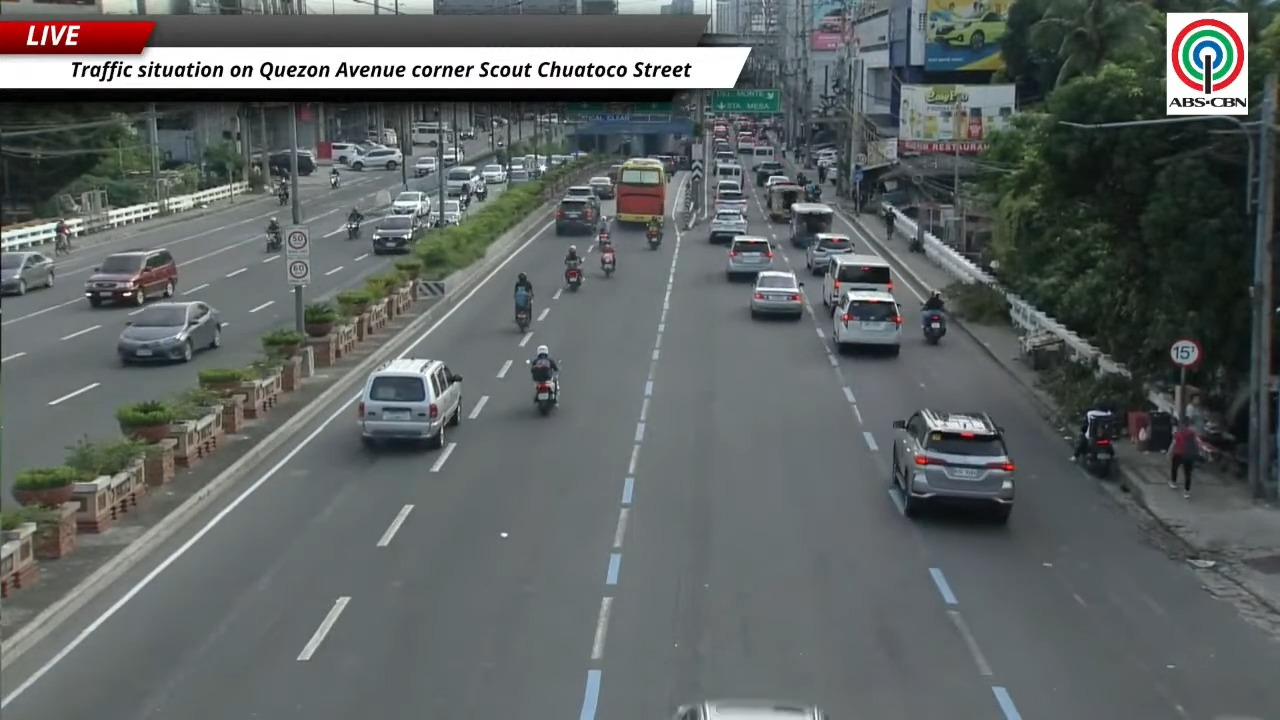bus: (615, 158, 666, 223), (411, 122, 452, 147)
car: (891, 409, 1015, 523), (358, 358, 461, 448), (117, 301, 222, 364), (84, 248, 177, 307), (832, 290, 903, 354), (673, 700, 828, 719), (932, 11, 1006, 50), (750, 270, 804, 319), (0, 251, 54, 294), (726, 236, 773, 280), (806, 233, 853, 275), (372, 215, 420, 254), (555, 197, 598, 235), (709, 209, 747, 243), (349, 147, 402, 170), (445, 165, 479, 196), (391, 191, 431, 217), (713, 190, 748, 216), (753, 160, 784, 186), (818, 8, 848, 33), (588, 176, 615, 199), (330, 142, 359, 163), (440, 199, 462, 225), (268, 151, 291, 175), (413, 156, 438, 177), (564, 185, 597, 200), (480, 164, 506, 183), (441, 147, 464, 166), (508, 167, 532, 184), (716, 179, 741, 194), (766, 174, 792, 188), (507, 158, 527, 173), (549, 154, 571, 167), (713, 150, 736, 162), (607, 164, 620, 184), (458, 128, 476, 141)
motorcycle: (1078, 437, 1114, 478), (533, 373, 558, 415), (535, 378, 557, 415), (923, 311, 946, 344), (514, 304, 531, 332), (565, 266, 583, 292), (601, 250, 615, 277), (266, 231, 283, 253), (54, 232, 70, 255), (646, 229, 661, 249), (908, 236, 923, 253), (346, 221, 360, 239), (277, 192, 289, 205), (475, 188, 486, 202), (329, 175, 339, 188)
